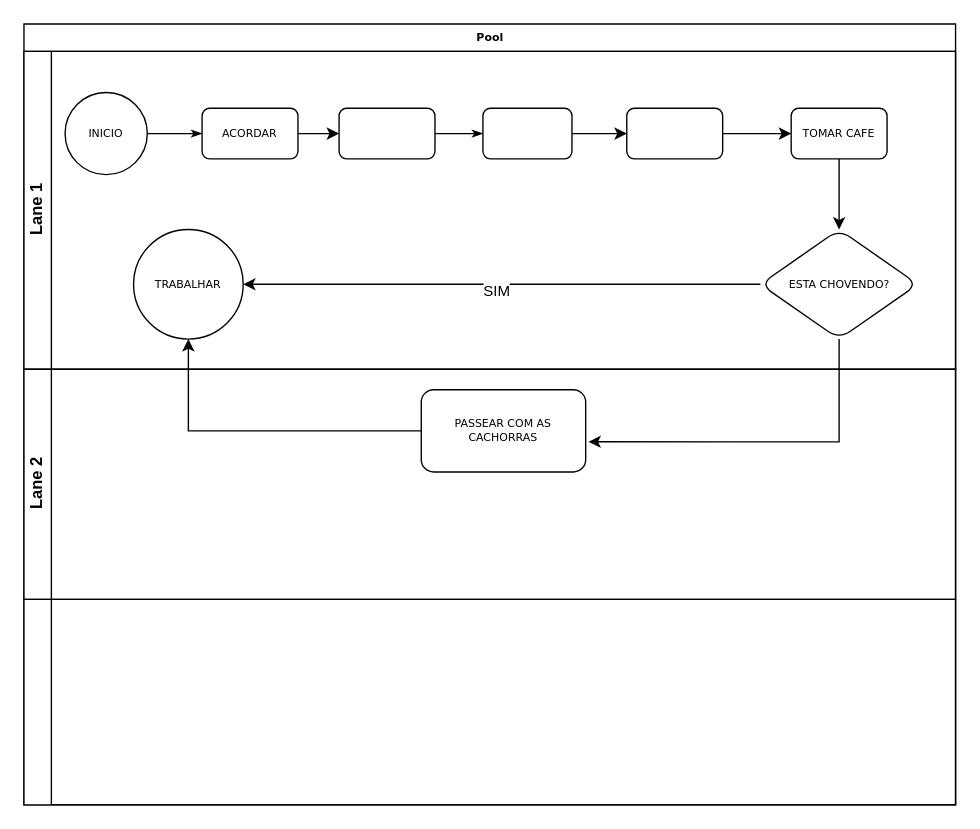
Image size: 980x829. Some labels were removed from this diagram. Each missing label, with the centre of its shape:
IR AO BANHEIRO: point (527, 133)
Lane 3: point (489, 701)
LEVANTAR DA CAMA: point (386, 133)
TOMAR AGUA: point (674, 133)
